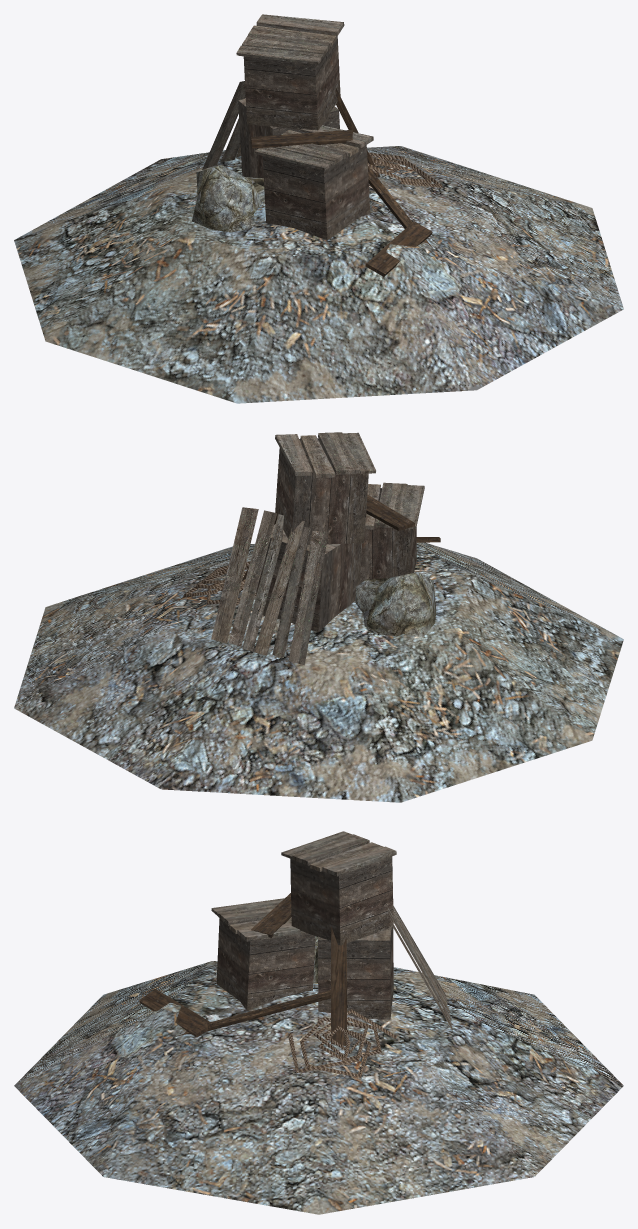
Rendered from props_garbage_01_lod_01.fbx.
The picture shows the model from 3 angles, top to bottom: view 1: azimuth 30°, elevation 25°; view 2: azimuth 150°, elevation 25°; view 3: azimuth 270°, elevation 25°; orthographic projection. The views are drawn at different scales.
Visible parts, largest first — view 1: props_garbage_01_lod_01; view 2: props_garbage_01_lod_01; view 3: props_garbage_01_lod_01.
Boxes of the visible parts, x1,y1,x2,y2 form: props_garbage_01_lod_01: (14, 14, 623, 403); props_garbage_01_lod_01: (14, 432, 623, 802); props_garbage_01_lod_01: (14, 831, 623, 1214).
Bounding box in the file's own units: 760 × 315 × 760.
